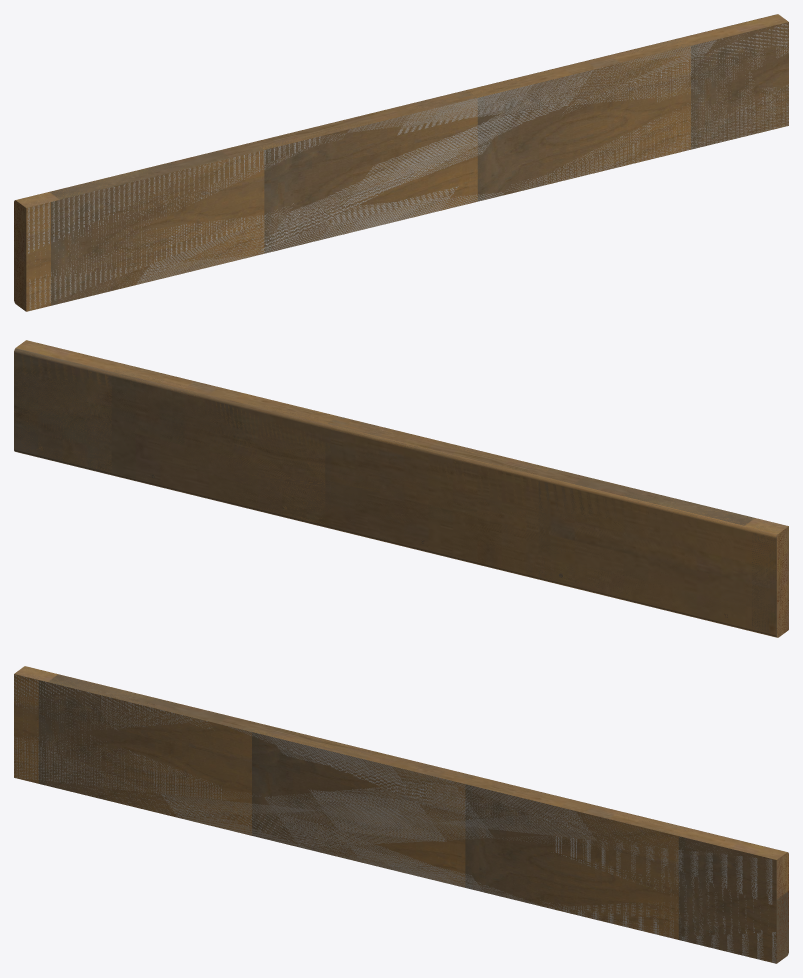
File: original-14.obj
The picture shows the model from 3 angles, top to bottom: view 1: azimuth 30°, elevation 25°; view 2: azimuth 150°, elevation 25°; view 3: azimuth 330°, elevation 25°; orthographic projection.
Parts seen in each view (by area): view 1: parete_cassetto_1_1/parete_cassetto_1/mesh17/mesh17-geometry#mes; view 2: parete_cassetto_1_1/parete_cassetto_1/mesh17/mesh17-geometry#mes; view 3: parete_cassetto_1_1/parete_cassetto_1/mesh17/mesh17-geometry#mes.
Boxes of the visible parts, x1,y1,x2,y2 form: parete_cassetto_1_1/parete_cassetto_1/mesh17/mesh17-geometry#mes: [14, 14, 788, 311]; parete_cassetto_1_1/parete_cassetto_1/mesh17/mesh17-geometry#mes: [14, 340, 788, 637]; parete_cassetto_1_1/parete_cassetto_1/mesh17/mesh17-geometry#mes: [14, 666, 788, 963].
Bounding box in the file's own units: 0.7478 × 0.0973 × 0.0209.
